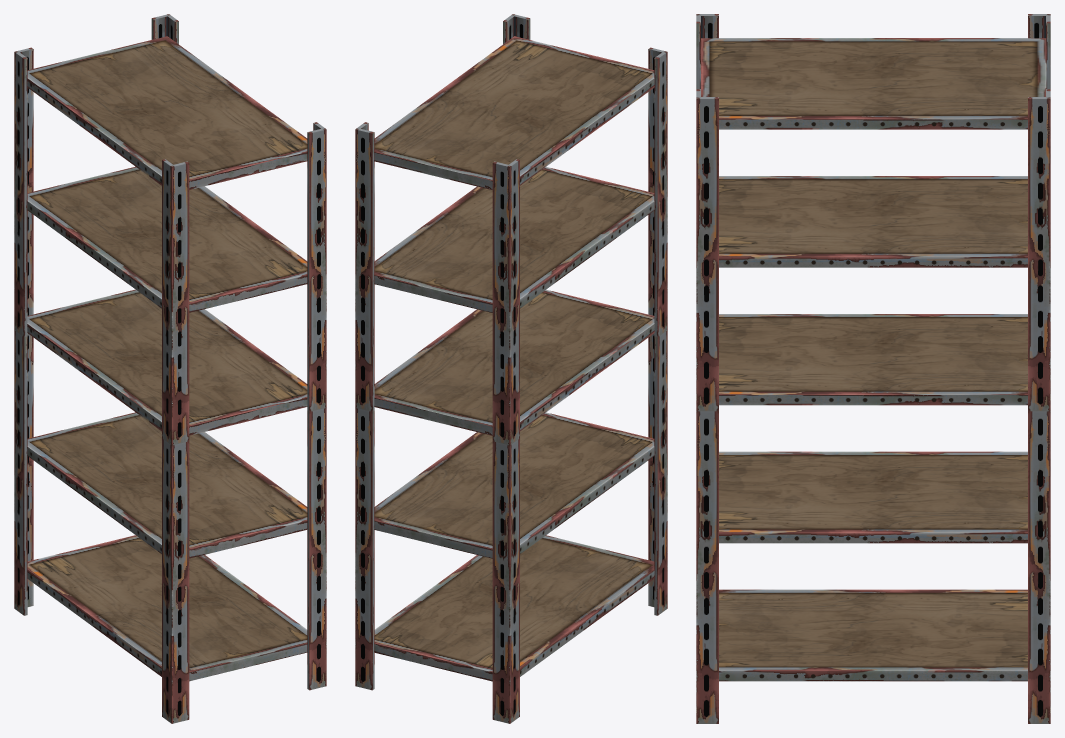
Rendered from metalShelf01_A.fbx.
3 renders of one model, left to right at view 1: azimuth 30°, elevation 25°; view 2: azimuth 150°, elevation 25°; view 3: azimuth 270°, elevation 25°, orthographic. The views are drawn at different scales.
Parts seen in each view (by area): view 1: metalShelf01_A; view 2: metalShelf01_A; view 3: metalShelf01_A.
Boxes of the visible parts, x1=… form: metalShelf01_A: x1=14, y1=14, x2=326, y2=723; metalShelf01_A: x1=355, y1=14, x2=667, y2=723; metalShelf01_A: x1=696, y1=14, x2=1050, y2=723.
Size of the model in its own units: 52.4 by 180 by 92.4.
